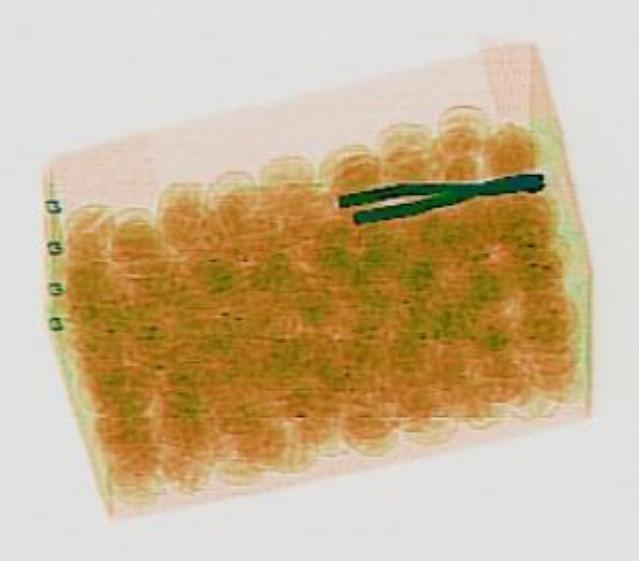Pliers: (334, 160, 547, 223)
